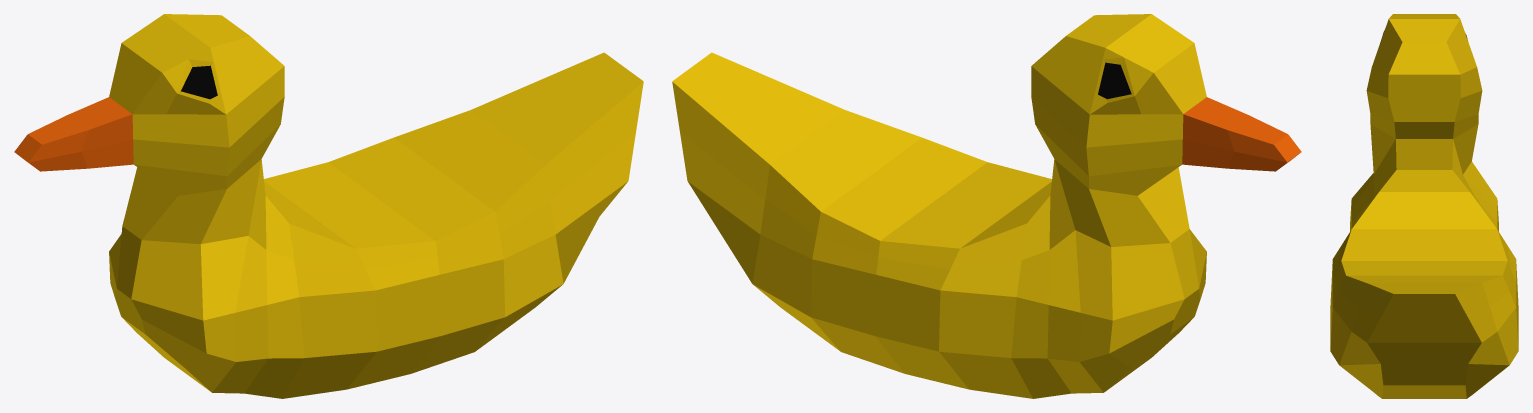
Rendered from kacsa.glb.
The picture shows the model from 3 angles, left to right: view 1: azimuth 30°, elevation 25°; view 2: azimuth 150°, elevation 25°; view 3: azimuth 270°, elevation 25°; orthographic projection. The views are drawn at different scales.
Visible parts, largest first — view 1: Cube; view 2: Cube; view 3: Cube.
Boxes of the visible parts, left/top/right/bottom form: Cube: left=14, top=14, right=643, bottom=398; Cube: left=672, top=14, right=1301, bottom=398; Cube: left=1330, top=14, right=1518, bottom=398.
Size of the model in its own units: 5.53 by 3.23 by 1.93.
